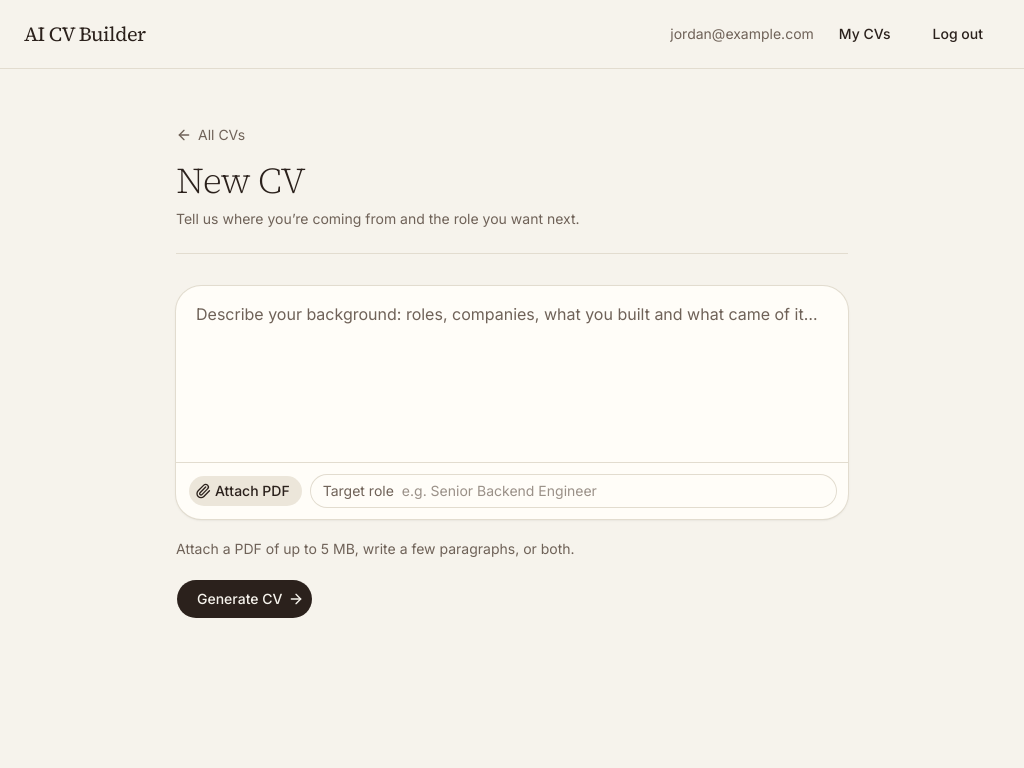
it: NewCvPage › clears the background error once text is provided
In the text box labelled "your background": (512, 374) [176,286,848,462], type "Eight years of backend work."
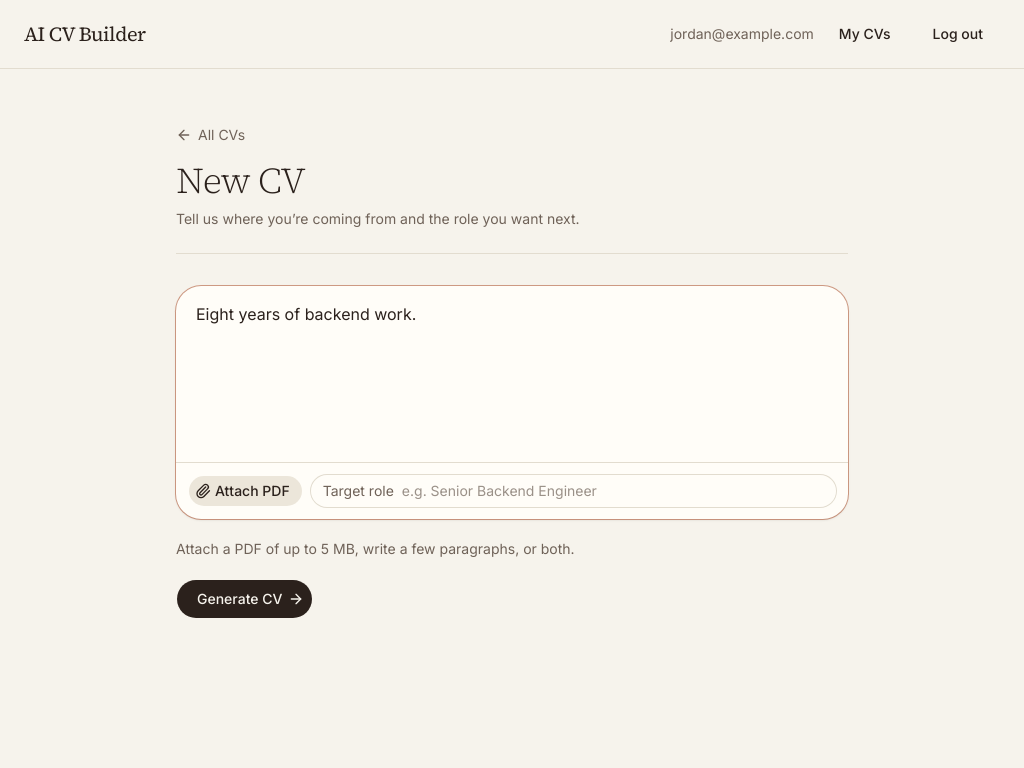
Click the button "Generate CV": (245, 599) [176,579,313,619]
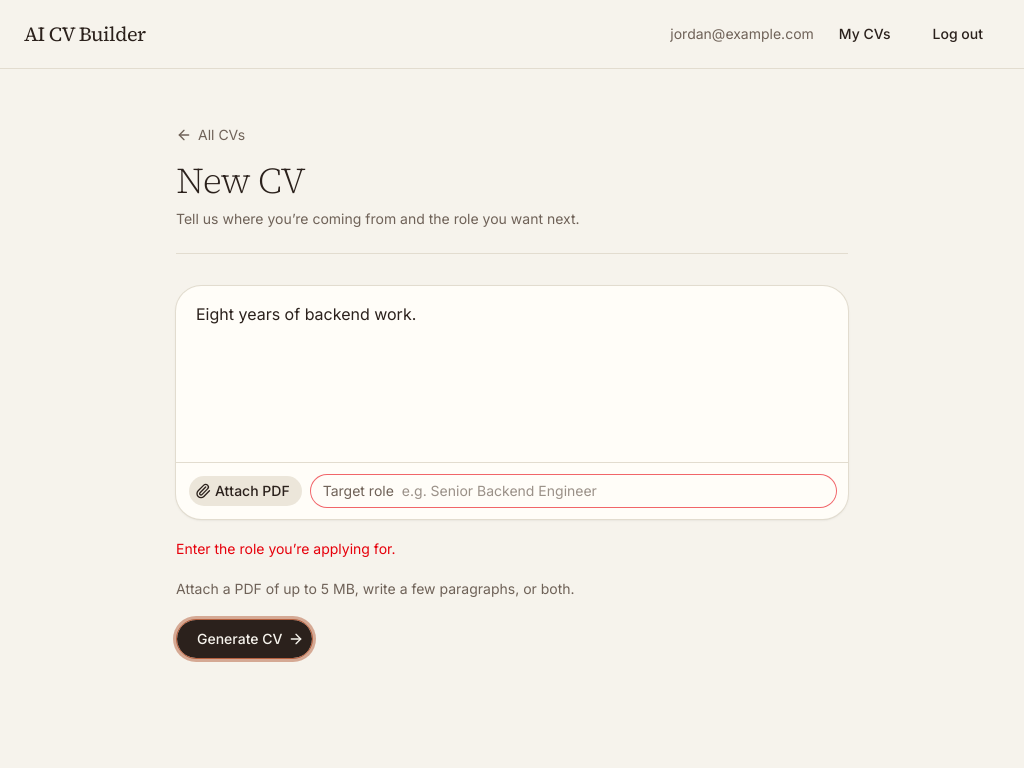
expect the list item "Enter the role you’re applying for." is shown: met, box [176,540,396,557]
